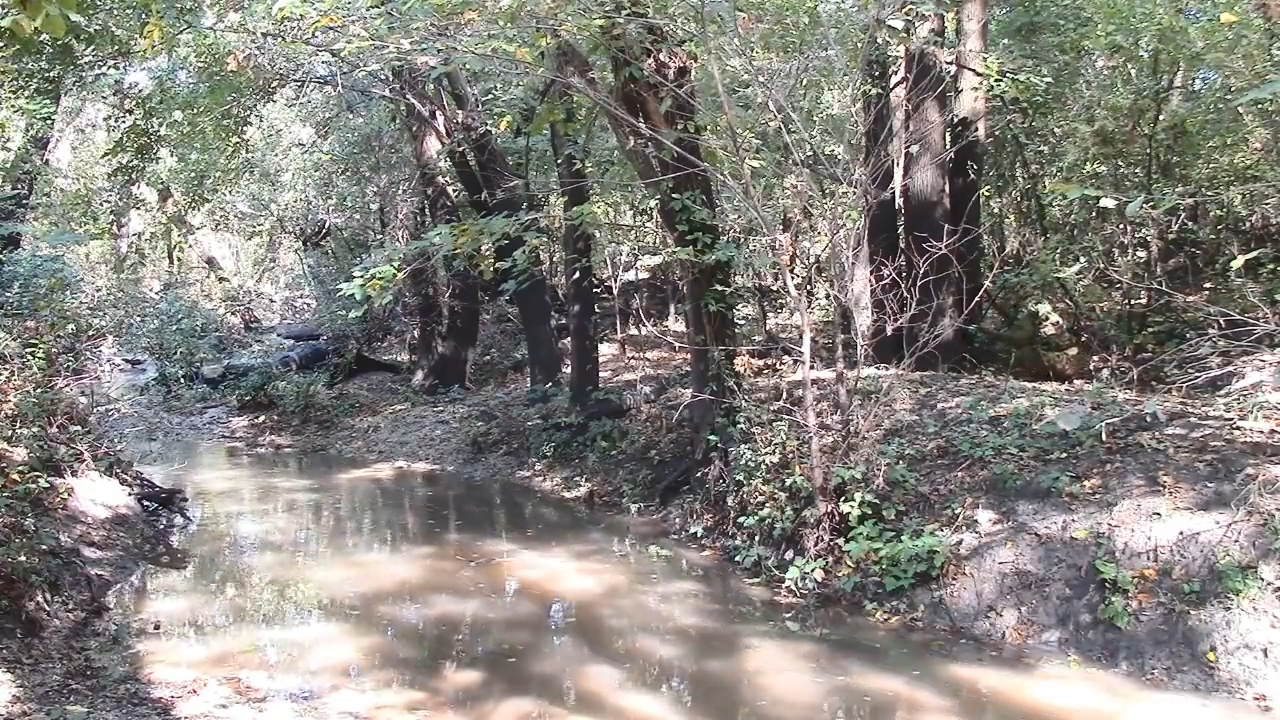person: (983, 271, 1103, 394)
